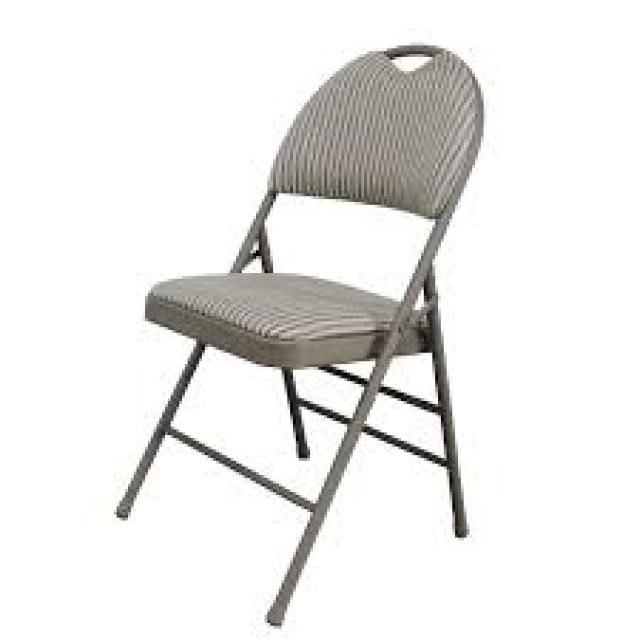chair: (79, 31, 523, 640)
